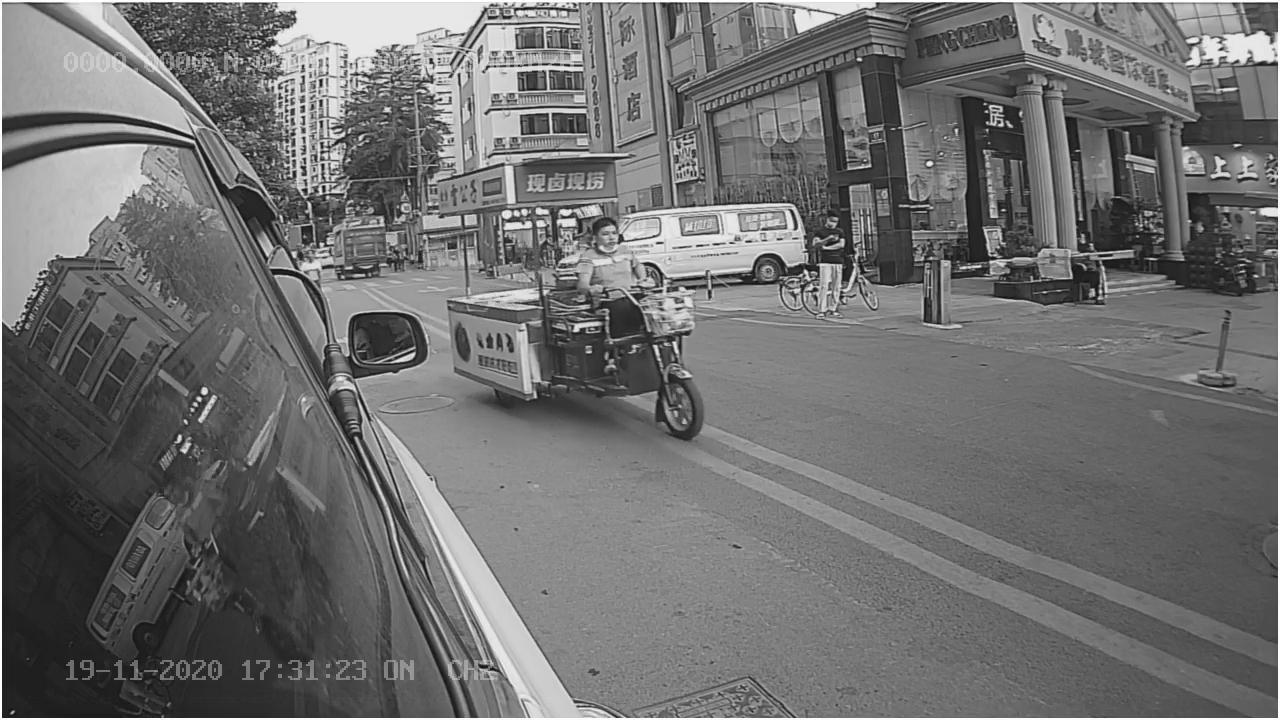person: (566, 216, 654, 285)
